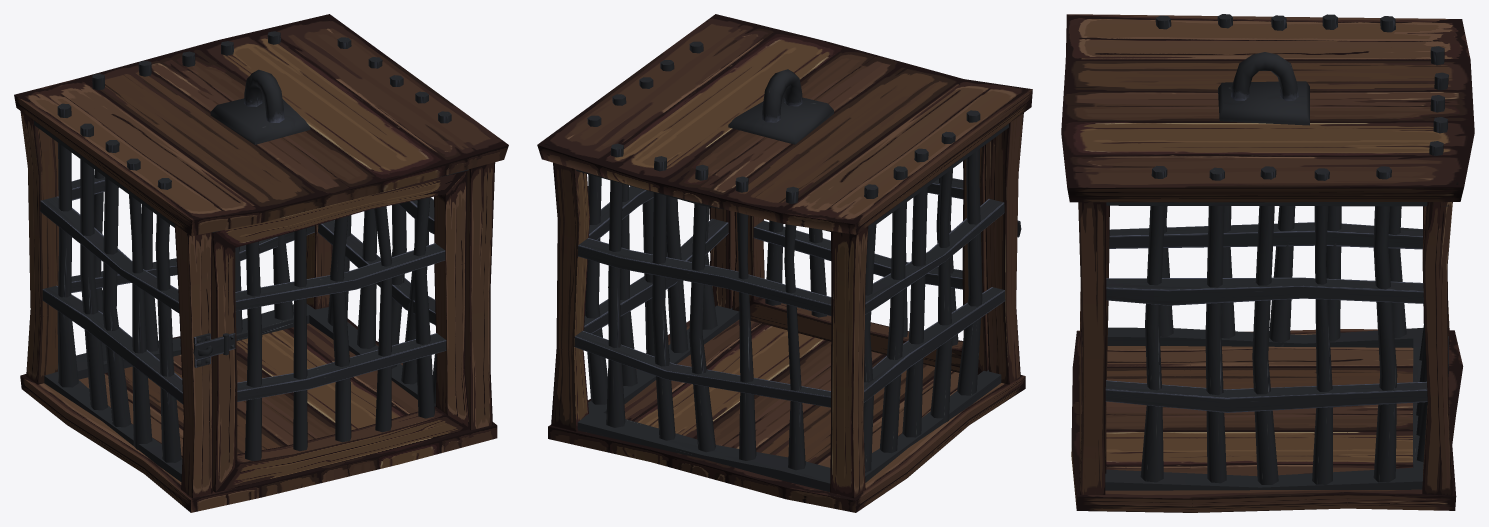
Rendered from SM_PROP_cage_dungeon_01.fbx.
The picture shows the model from 3 angles, left to right: view 1: azimuth 30°, elevation 25°; view 2: azimuth 150°, elevation 25°; view 3: azimuth 270°, elevation 25°; orthographic projection. The views are drawn at different scales.
Visible parts, largest first — view 1: SM_PROP_cage_dungeon_01, SM_PROP_cage_door_01_dungeon; view 2: SM_PROP_cage_dungeon_01, SM_PROP_cage_door_01_dungeon; view 3: SM_PROP_cage_dungeon_01, SM_PROP_cage_door_01_dungeon.
Part boxes in pixels (<box>): SM_PROP_cage_dungeon_01: <box>14,14,508,512</box>; SM_PROP_cage_door_01_dungeon: <box>193,171,470,492</box>; SM_PROP_cage_dungeon_01: <box>537,14,1032,512</box>; SM_PROP_cage_door_01_dungeon: <box>732,145,1021,374</box>; SM_PROP_cage_dungeon_01: <box>1061,14,1474,512</box>; SM_PROP_cage_door_01_dungeon: <box>1079,205,1109,480</box>.
Bounding box in the file's own units: 235 × 241 × 239.
